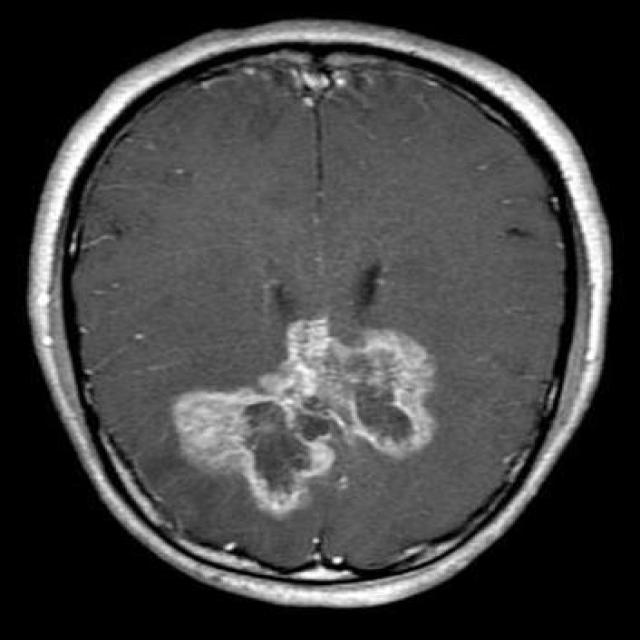Tumor-Cell: (175, 301, 453, 510)
